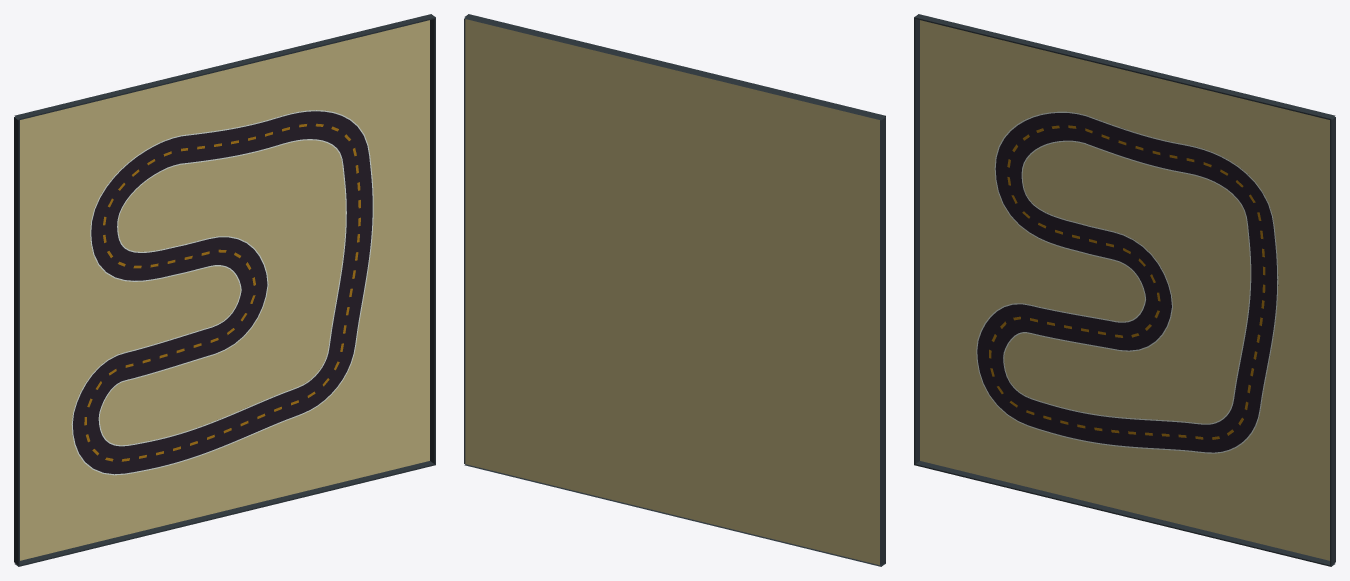
The model's file is track.obj.
The picture shows the model from 3 angles, left to right: view 1: azimuth 30°, elevation 25°; view 2: azimuth 150°, elevation 25°; view 3: azimuth 330°, elevation 25°; orthographic projection.
Size of the model in its own units: 15.93 by 16.34 by 0.3.
